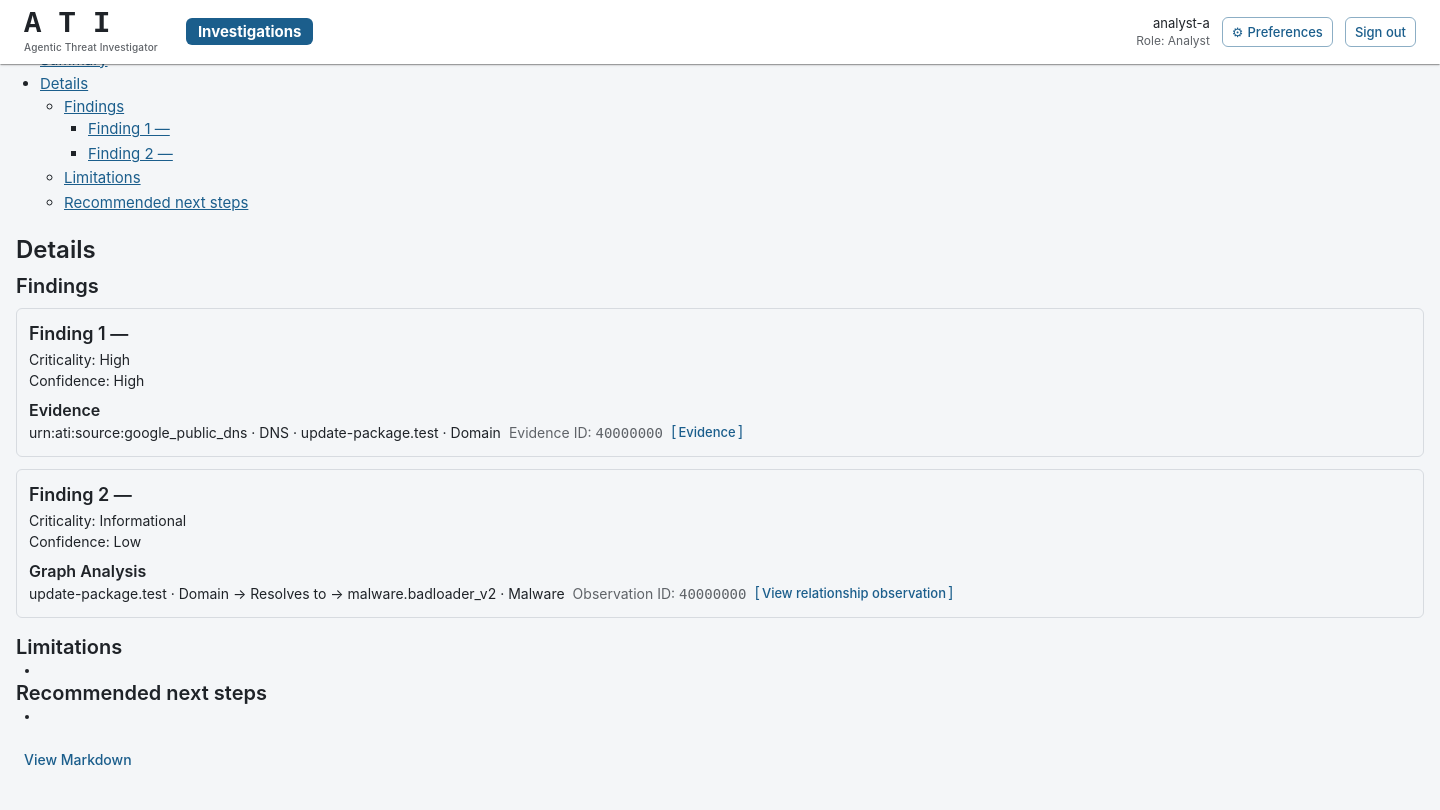
Test case: REPORT workspace surface › retains the persisted Markdown surface
(page scrolled)
Click the button "View Markdown": point(78, 760) x1=16 y1=742 x2=140 y2=778
(page scrolled)
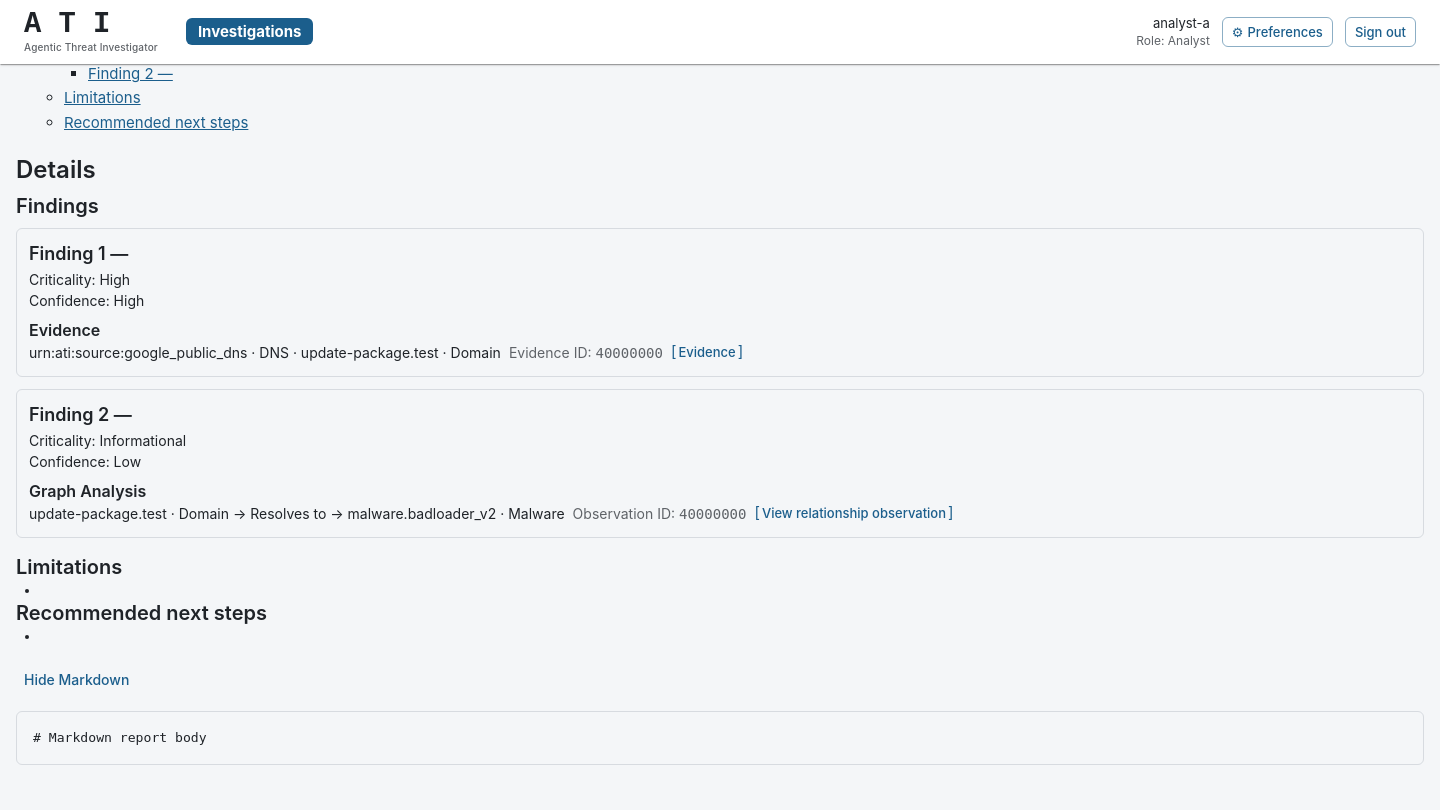
Expected: the text "# Markdown report body" is shown, x1=16 y1=711 x2=1424 y2=765
